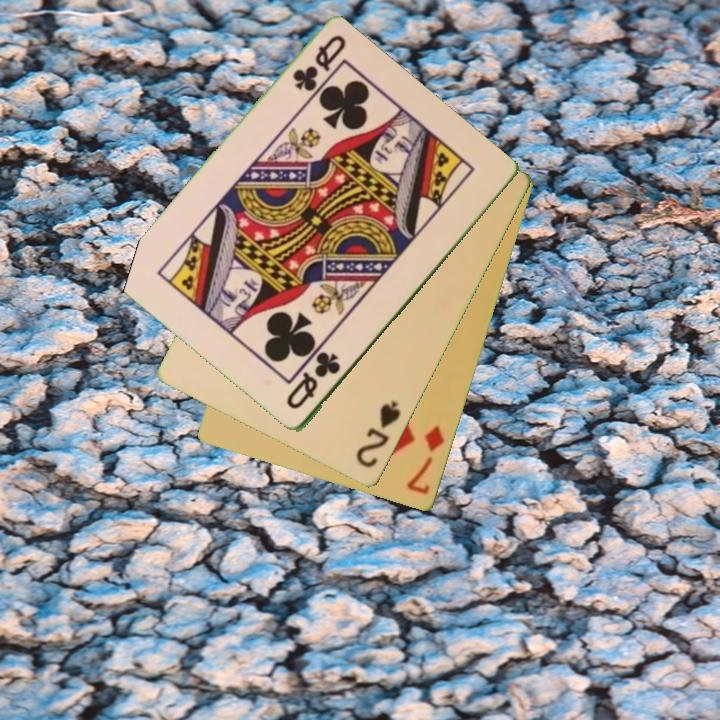2s: (352, 397, 404, 472)
7d: (403, 422, 448, 499)
Qc: (283, 348, 344, 413), (288, 31, 349, 95)
